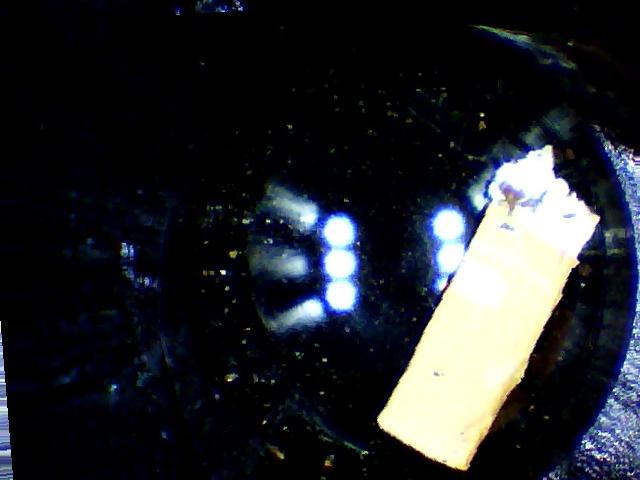megot: (336, 137, 625, 479)
